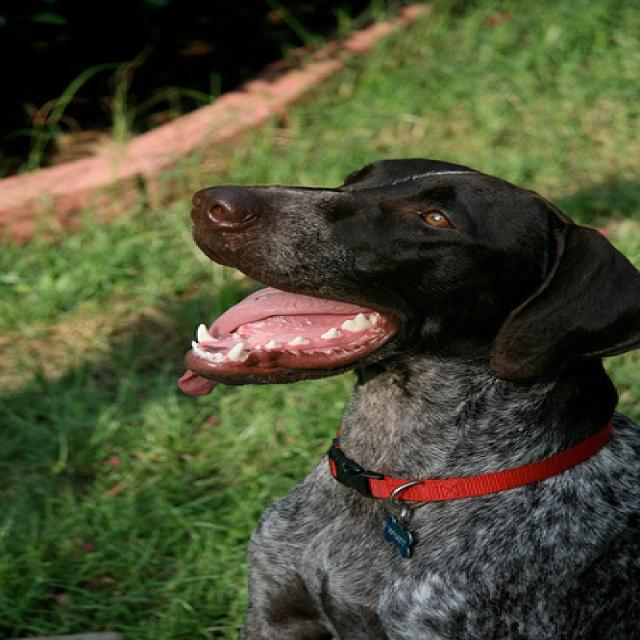dog-german_shorthaired: (160, 145, 636, 637)
